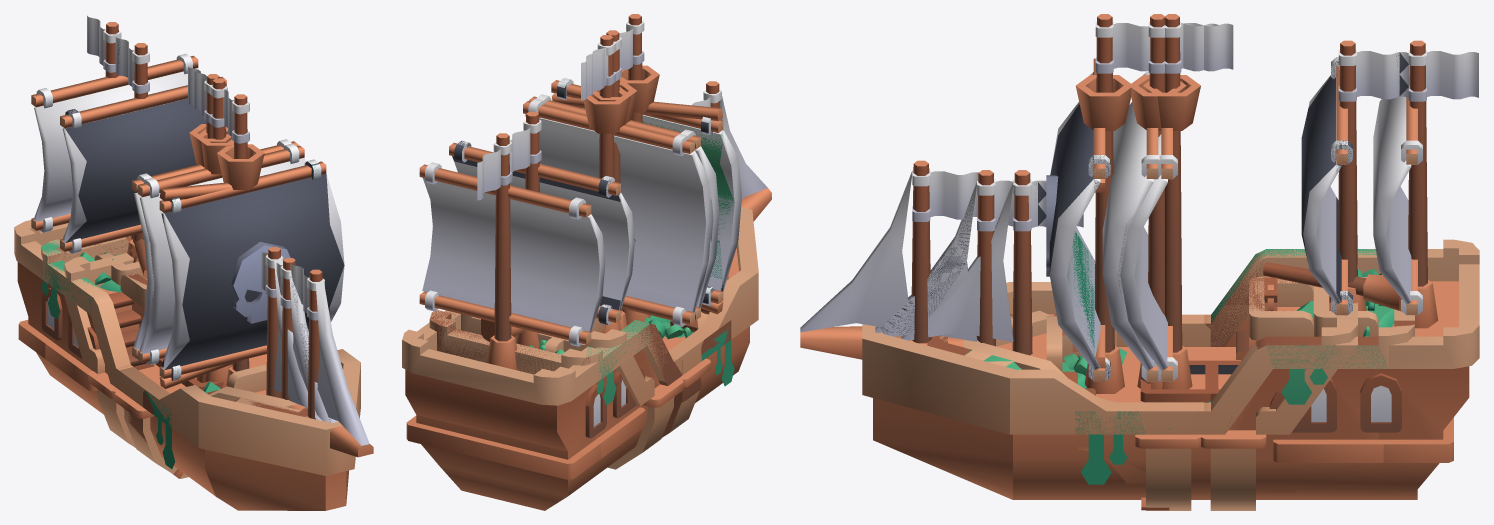
The model's file is ships.glb.
3 renders of one model, left to right at view 1: azimuth 30°, elevation 25°; view 2: azimuth 150°, elevation 25°; view 3: azimuth 270°, elevation 25°, orthographic. The views are drawn at different scales.
Parts seen in each view (by area): view 1: ship-large, sail-a (×5), sail-b (×3), ship-medium, ship-small, flag-c (×2), flag-b (×3), ship-wreck, ship-ghost, flag-a (×2); view 2: ship-large, sail-b (×3), sail-a (×6), ship-medium, ship-wreck, ship-small, flag-b (×3), flag-c (×2), ship-ghost, Group; view 3: ship-large, ship-medium, sail-a (×5), ship-small, sail-b (×3), ship-wreck, flag-b (×3), flag-c (×2), ship-ghost, flag-a (×2), Group, ship-pirate-medium.
Part boxes in pixels (x1,y1,x2,y2): ship-large: (14, 22, 373, 510); sail-a (×5): (132, 139, 344, 388); sail-b (×3): (31, 53, 229, 253); ship-medium: (41, 43, 338, 478); ship-small: (64, 74, 322, 420); flag-c (×2): (87, 15, 149, 93); flag-b (×3): (188, 67, 249, 143); ship-wreck: (41, 113, 308, 442); ship-ghost: (41, 255, 175, 468); flag-a (×2): (261, 252, 324, 320); ship-large: (402, 30, 771, 510); sail-b (×3): (419, 141, 635, 346); sail-a (×6): (523, 78, 741, 326); ship-medium: (429, 14, 727, 458); ship-wreck: (429, 16, 731, 451); ship-small: (461, 35, 710, 426); flag-b (×3): (581, 21, 644, 100); flag-c (×2): (477, 120, 541, 200); ship-ghost: (451, 315, 734, 405); Group: (644, 315, 683, 339); ship-large: (800, 14, 1479, 510); ship-medium: (875, 14, 1414, 498); sail-a (×5): (1046, 71, 1177, 381); ship-small: (901, 14, 1357, 510); sail-b (×3): (1301, 57, 1422, 315); ship-wreck: (895, 18, 1414, 485); flag-b (×3): (1095, 21, 1233, 73); flag-c (×2): (1338, 50, 1478, 101); ship-ghost: (965, 345, 1387, 484); flag-a (×2): (912, 170, 1046, 231); Group: (1263, 262, 1401, 311); ship-pirate-medium: (880, 189, 975, 335).
Size of the model in its own units: 4.8 by 9.96 by 13.1.
1 material, 1 textured.
